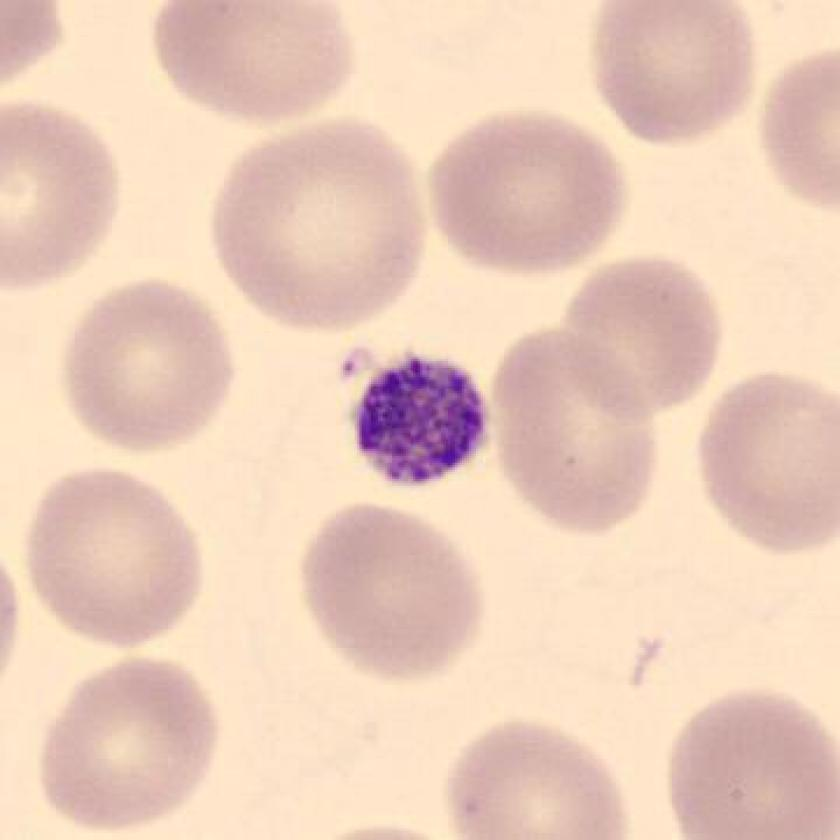platelets: (337, 348, 500, 501)
